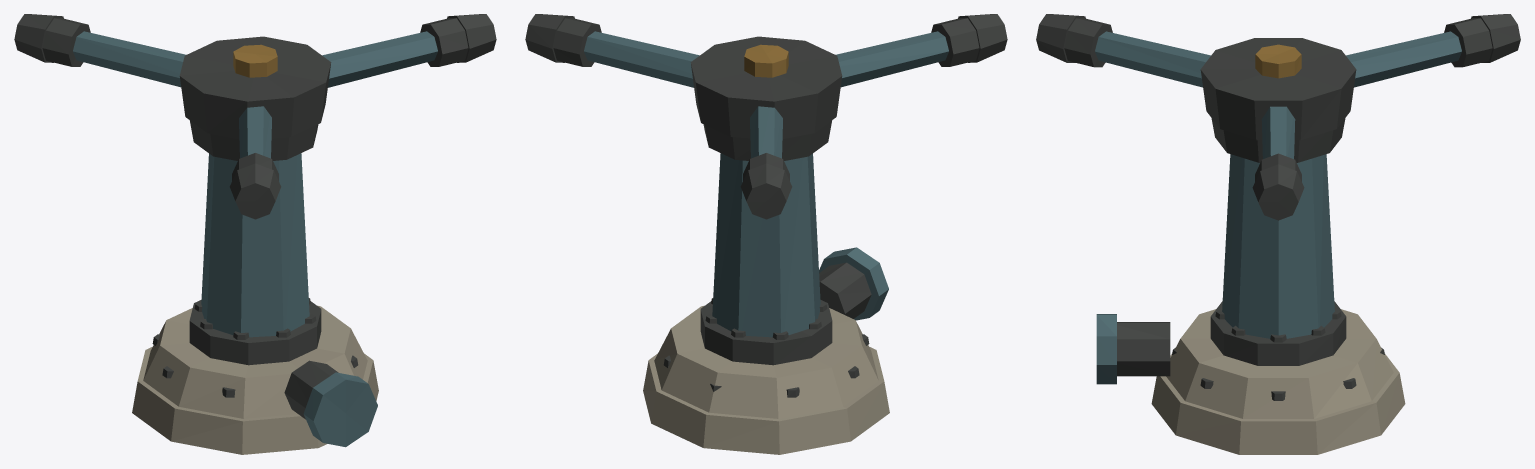
File: Rotary-Sprinkler.glb
The picture shows the model from 3 angles, left to right: view 1: azimuth 30°, elevation 25°; view 2: azimuth 150°, elevation 25°; view 3: azimuth 270°, elevation 25°; orthographic projection.
Visible parts, largest first — view 1: rotary-sprinkler-static-rotary-sprinkler-blue-gray-metal-mat, rotary-sprinkler-static-rotary-sprinkler-charcoal-metal-mat, rotary-sprinkler-static-rotary-sprinkler-stone-base-mat, rotary-sprinkler-static-rotary-sprinkler-brass-pivot-mat; view 2: rotary-sprinkler-static-rotary-sprinkler-charcoal-metal-mat, rotary-sprinkler-static-rotary-sprinkler-blue-gray-metal-mat, rotary-sprinkler-static-rotary-sprinkler-stone-base-mat, rotary-sprinkler-static-rotary-sprinkler-brass-pivot-mat; view 3: rotary-sprinkler-static-rotary-sprinkler-charcoal-metal-mat, rotary-sprinkler-static-rotary-sprinkler-blue-gray-metal-mat, rotary-sprinkler-static-rotary-sprinkler-stone-base-mat, rotary-sprinkler-static-rotary-sprinkler-brass-pivot-mat.
Part boxes in pixels (x1,y1,x2,y2): rotary-sprinkler-static-rotary-sprinkler-blue-gray-metal-mat: (73, 31, 437, 447); rotary-sprinkler-static-rotary-sprinkler-charcoal-metal-mat: (14, 14, 496, 419); rotary-sprinkler-static-rotary-sprinkler-stone-base-mat: (132, 305, 378, 454); rotary-sprinkler-static-rotary-sprinkler-brass-pivot-mat: (233, 44, 277, 77); rotary-sprinkler-static-rotary-sprinkler-charcoal-metal-mat: (525, 14, 1007, 397); rotary-sprinkler-static-rotary-sprinkler-blue-gray-metal-mat: (584, 31, 948, 337); rotary-sprinkler-static-rotary-sprinkler-stone-base-mat: (643, 305, 889, 454); rotary-sprinkler-static-rotary-sprinkler-brass-pivot-mat: (744, 44, 788, 77); rotary-sprinkler-static-rotary-sprinkler-charcoal-metal-mat: (1036, 14, 1520, 400); rotary-sprinkler-static-rotary-sprinkler-blue-gray-metal-mat: (1095, 31, 1461, 384); rotary-sprinkler-static-rotary-sprinkler-stone-base-mat: (1151, 309, 1405, 454); rotary-sprinkler-static-rotary-sprinkler-brass-pivot-mat: (1255, 44, 1301, 78).
Bounding box in the file's own units: 1.46 × 1.34 × 1.68.
